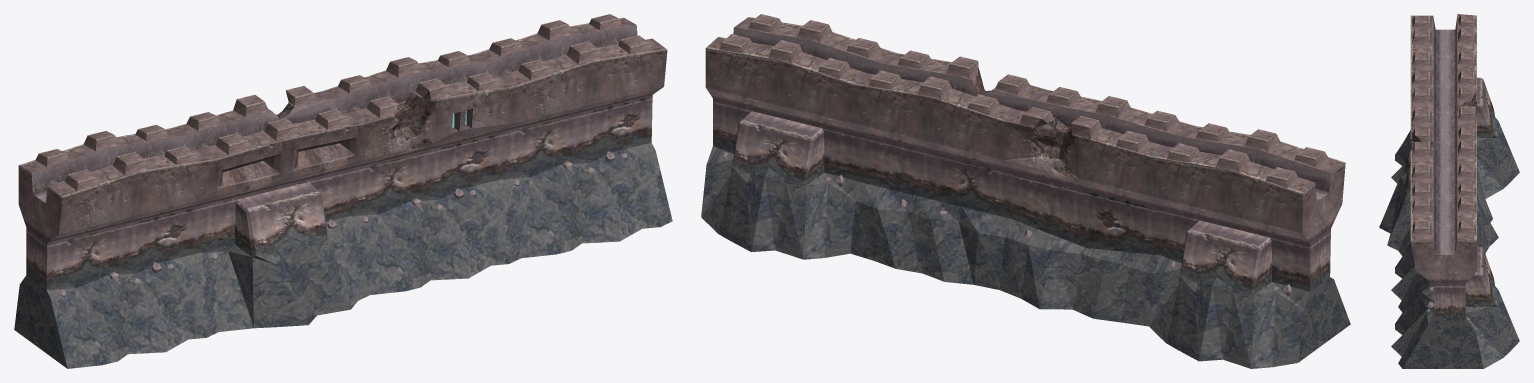
File: C4SMWA40H.obj
3 views of the same model, side by side, from view 1: azimuth 30°, elevation 25°; view 2: azimuth 150°, elevation 25°; view 3: azimuth 270°, elevation 25° (orthographic). The views are drawn at different scales.
Parts seen in each view (by area): view 1: Node 0; view 2: Node 0; view 3: Node 0.
Boxes of the visible parts, x1,y1,x2,y2 form: Node 0: (14,14,672,368); Node 0: (701,14,1350,368); Node 0: (1379,14,1519,368).
Bounding box in the file's own units: 40 × 11.68 × 10.57.
4 materials, 4 textured.
